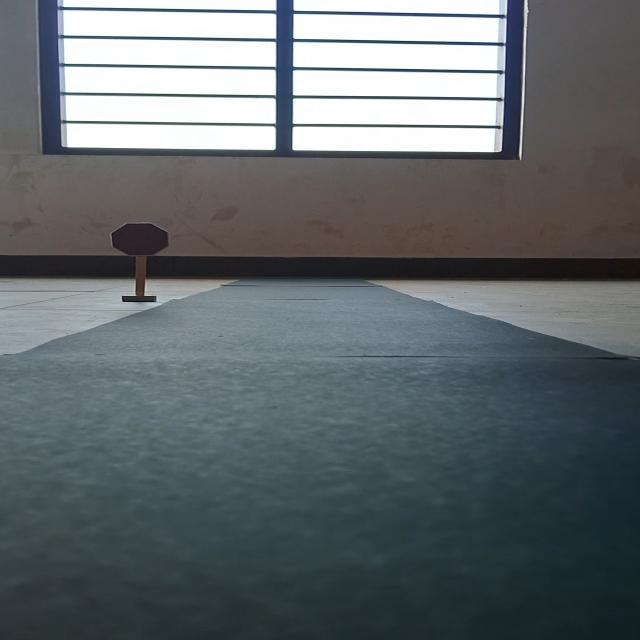Stop: (111, 223, 170, 256)
